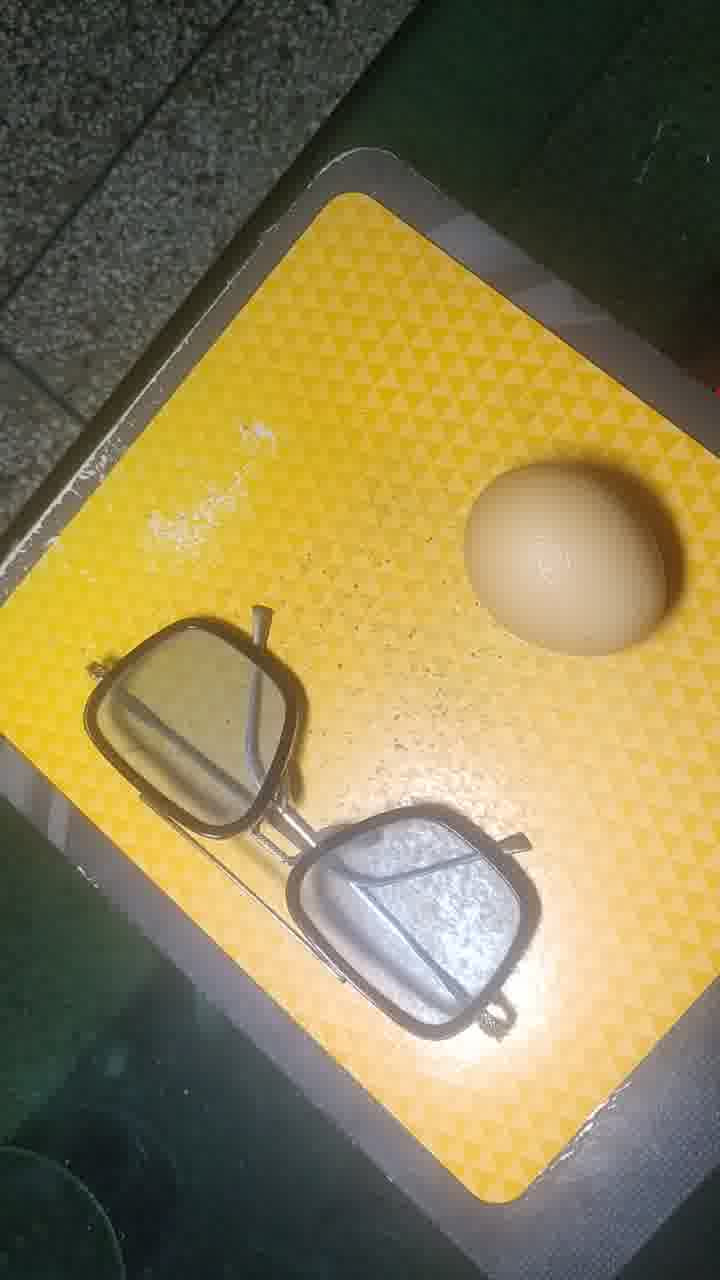egg: (451, 447, 683, 670)
sunglass: (63, 598, 543, 1081)
